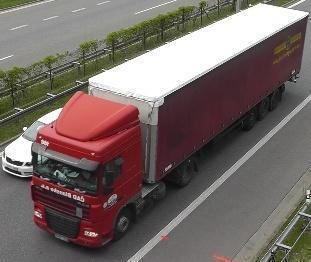car: (0, 105, 77, 180)
truck: (29, 4, 308, 252)
